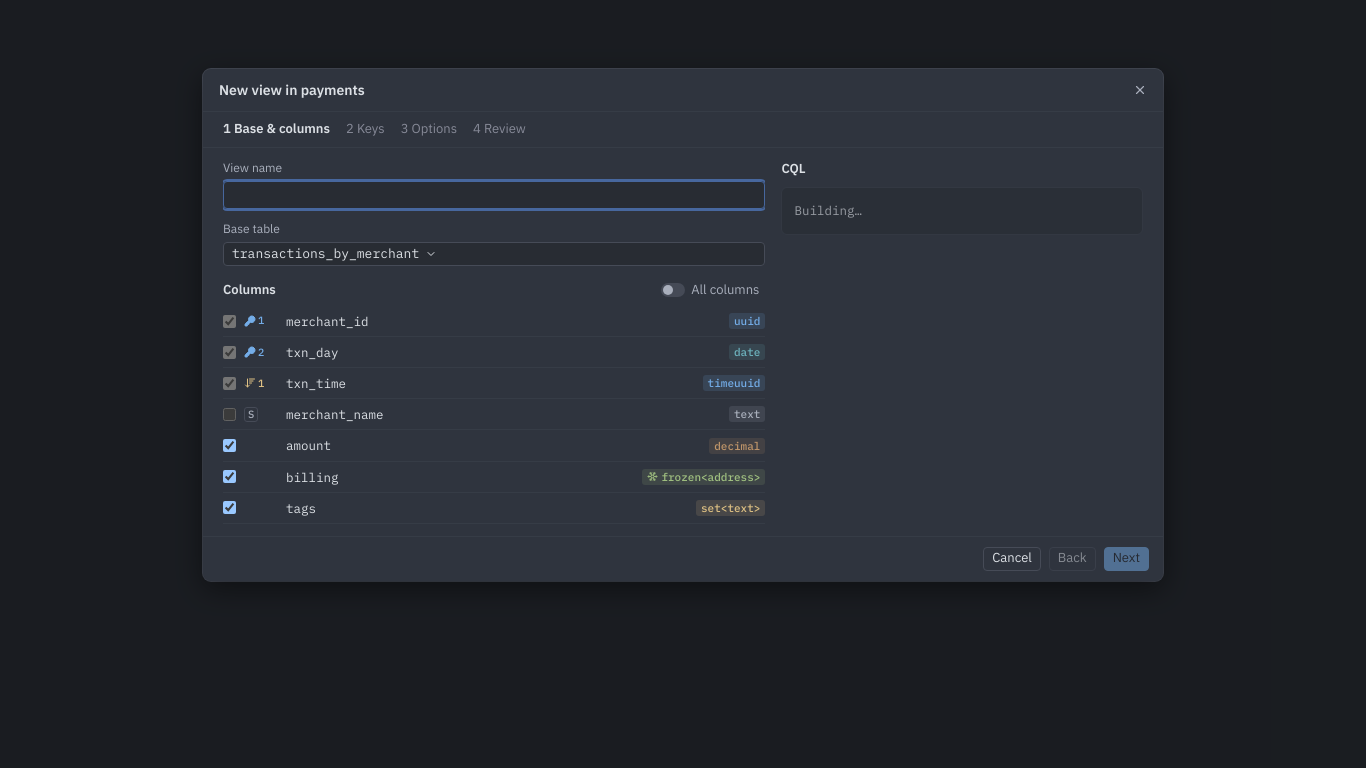
NewViewWizard › blocks Next until a name is given
Expected: the button "Next" is disabled, [1104, 547, 1149, 571]
Type "v" into the field labelled "View name" at (494, 195), box [223, 181, 765, 209]
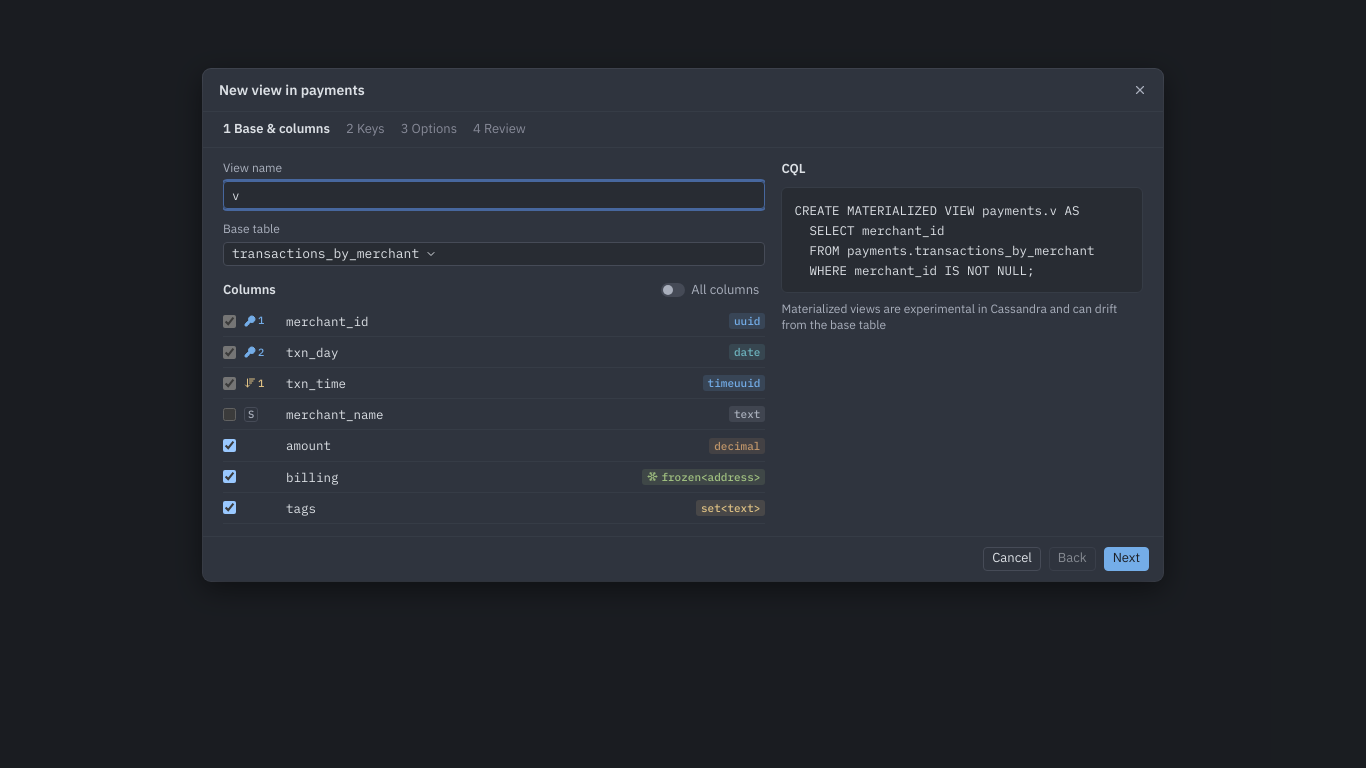
Expected: the button "Next" is enabled, [1104, 547, 1149, 571]
